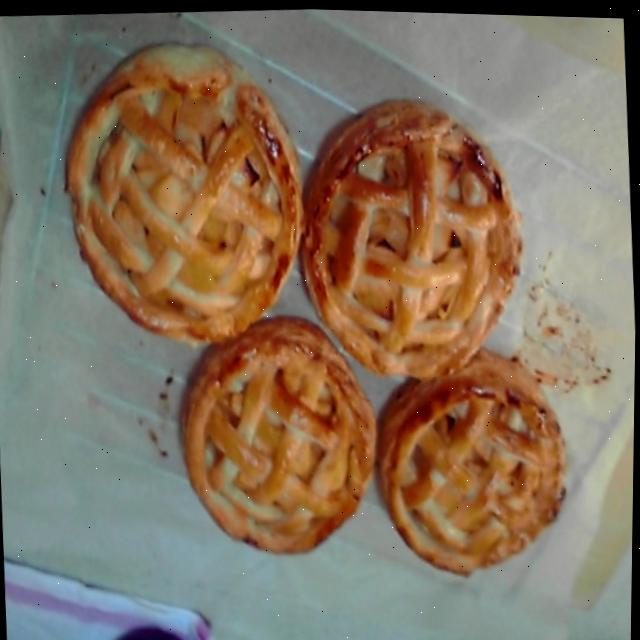炸货点心: (42, 4, 615, 608)
蛋糕甜品: (42, 4, 615, 608)
